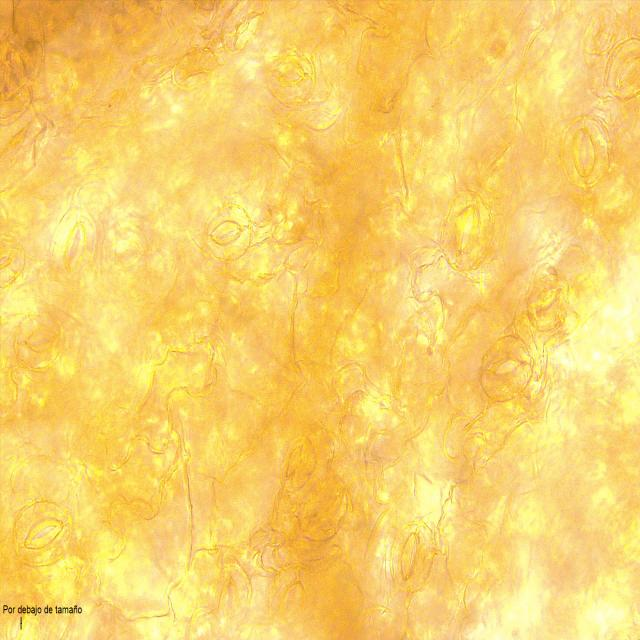Stomata: (438, 188, 496, 273), (11, 500, 72, 570), (479, 334, 535, 404), (560, 116, 612, 191), (49, 207, 97, 286), (296, 474, 349, 543), (389, 518, 434, 595), (268, 564, 315, 632), (12, 312, 64, 373), (204, 203, 253, 263), (268, 49, 316, 108), (526, 273, 570, 335), (211, 563, 251, 628), (605, 34, 640, 102), (0, 233, 27, 290)
